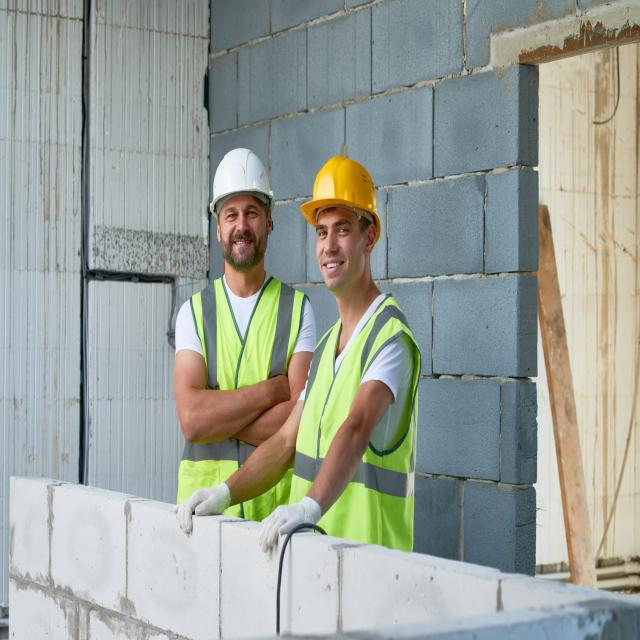Gloves: (254, 485, 330, 552), (169, 476, 239, 542)
Hard Hat: (295, 144, 393, 239), (210, 146, 282, 228)
Reflective Vest: (179, 277, 315, 539), (294, 294, 425, 556)
